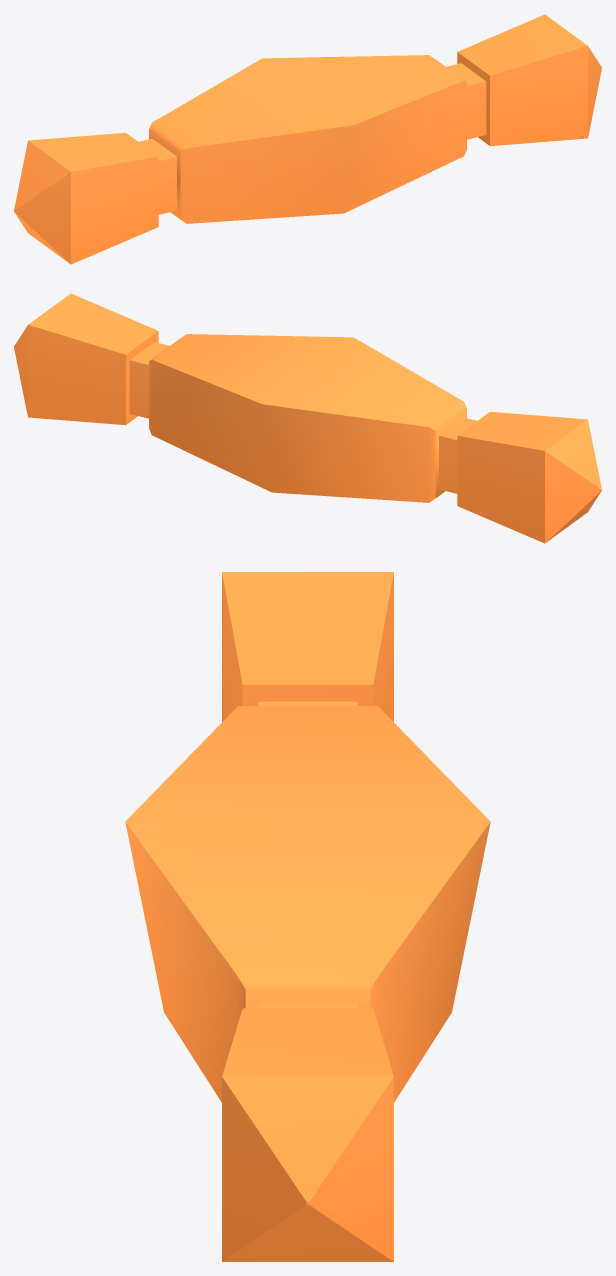
File: bronze_guard_076.glb
3 renders of one model, top to bottom at view 1: azimuth 30°, elevation 25°; view 2: azimuth 150°, elevation 25°; view 3: azimuth 270°, elevation 25°, orthographic. The views are drawn at different scales.
Visible parts, largest first — view 1: bronze_guard_076; view 2: bronze_guard_076; view 3: bronze_guard_076.
Boxes of the visible parts, x1,y1,x2,y2 form: bronze_guard_076: [14, 14, 601, 264]; bronze_guard_076: [14, 293, 601, 543]; bronze_guard_076: [125, 572, 490, 1261].
Bounding box in the file's own units: 9.16 × 1.42 × 2.47.
1 material, 1 textured.
